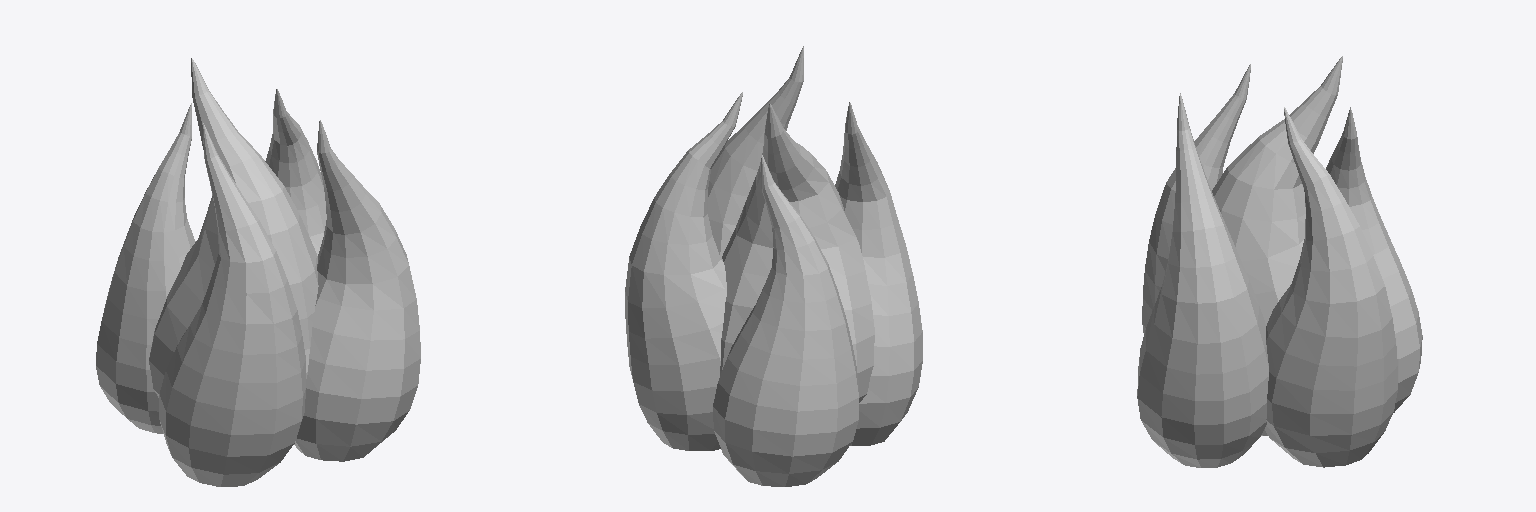
The model's file is fire_000053.obj.
3 renders of one model, left to right at view 1: azimuth 30°, elevation 25°; view 2: azimuth 150°, elevation 25°; view 3: azimuth 270°, elevation 25°, orthographic.
Parts seen in each view (by area): view 1: flame_NurbsPath.015; view 2: flame_NurbsPath.015; view 3: flame_NurbsPath.015.
Part boxes in pixels (bbox=[...]): flame_NurbsPath.015: bbox=[96, 58, 420, 486]; flame_NurbsPath.015: bbox=[625, 46, 922, 486]; flame_NurbsPath.015: bbox=[1137, 56, 1422, 467].
Size of the model in its own units: 0.7656 by 1.14 by 0.8007.